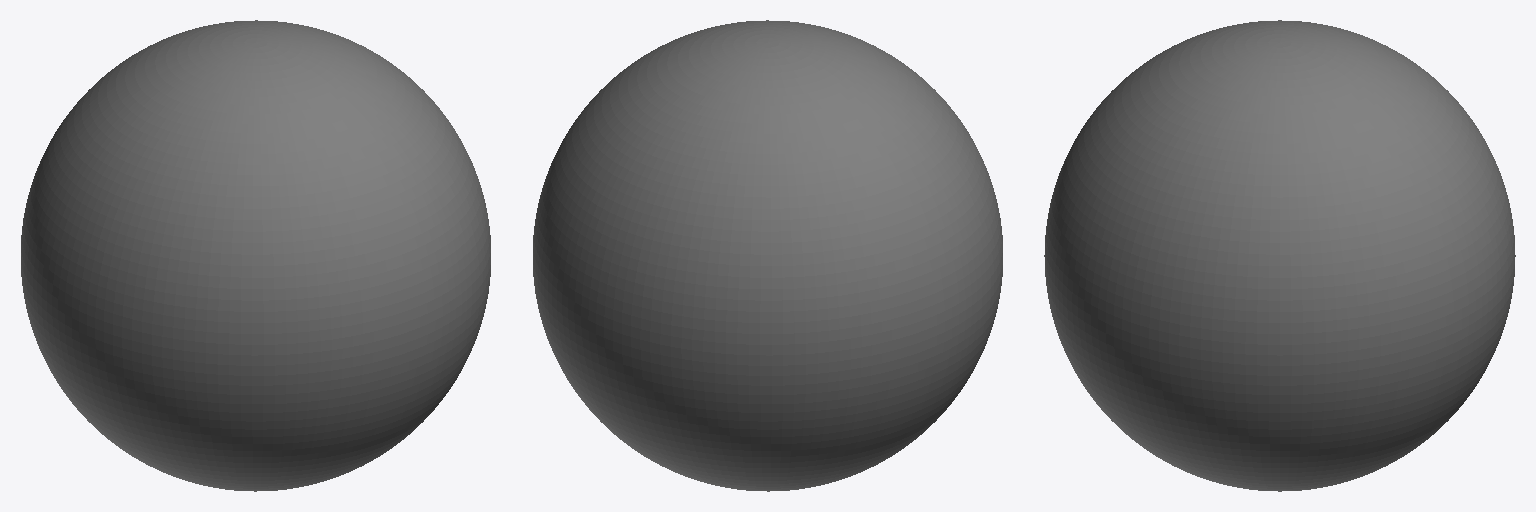
File: sun.obj
3 views of the same model, side by side, from view 1: azimuth 30°, elevation 25°; view 2: azimuth 150°, elevation 25°; view 3: azimuth 270°, elevation 25° (orthographic).
Parts seen in each view (by area): view 1: Sphere; view 2: Sphere; view 3: Sphere.
Boxes of the visible parts, x1,y1,x2,y2 form: Sphere: [21, 20, 490, 491]; Sphere: [533, 20, 1002, 491]; Sphere: [1044, 20, 1515, 491].
Bounding box in the file's own units: 139 × 139 × 139.